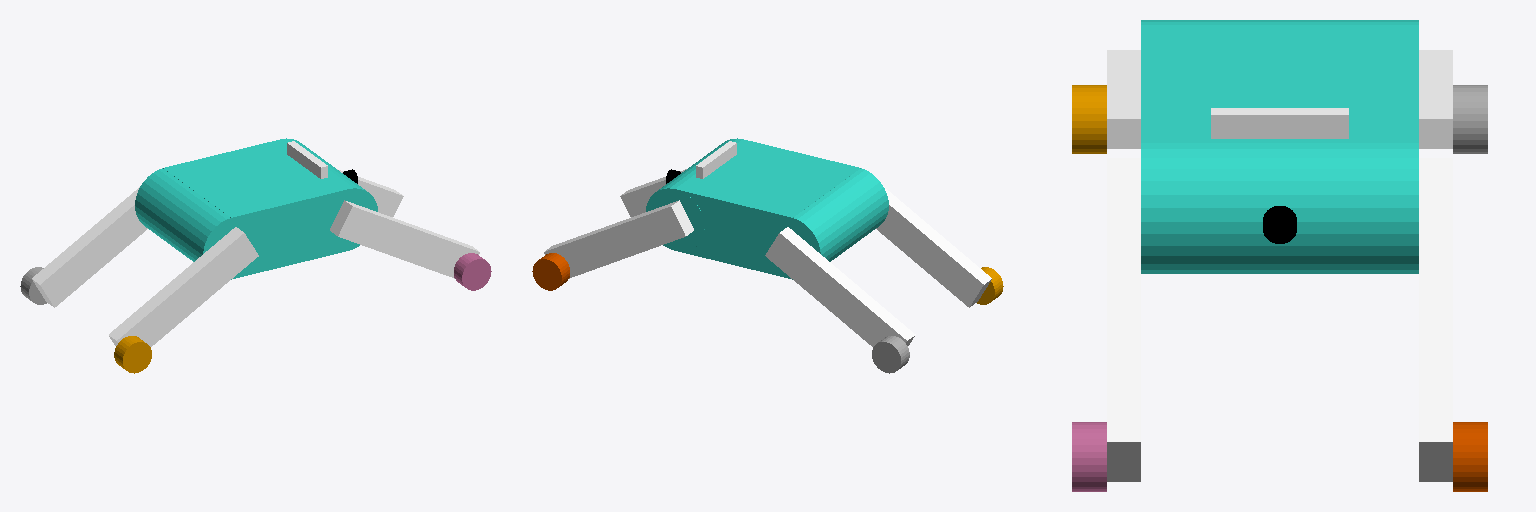
robot.urdf — hitomi:
<?xml version="1.0" ?>
<!-- =================================================================================== -->
<!-- |    This document was autogenerated by xacro from combined.urdf.xacro            | -->
<!-- |    EDITING THIS FILE BY HAND IS NOT RECOMMENDED                                 | -->
<!-- =================================================================================== -->
<robot name="hitomi">
  <gazebo>
    <plugin filename="libgz-sim-sensors-system.so" name="gz::sim::systems::Sensors">
      <render_engine>ogre2</render_engine>
    </plugin>
  </gazebo>
  <gazebo>
    <plugin filename="gz-sim-diff-drive-system" name="gz::sim::systems::DiffDrive">
      <left_joint>wheel_fl_joint</left_joint>
      <left_joint>wheel_rl_joint</left_joint>
      <right_joint>wheel_fr_joint</right_joint>
      <right_joint>wheel_rr_joint</right_joint>
      <wheel_separation>0.220334</wheel_separation>
      <wheel_radius>0.02</wheel_radius>
      <max_linear_acceleration>10</max_linear_acceleration>
      <odom_publish_frequency>100</odom_publish_frequency>
      <topic>cmd_vel</topic>
      <odom_topic>odom</odom_topic>
    </plugin>
  </gazebo>
  <gazebo reference="wheel_fl">
    <mu1>1.0</mu1>
    <mu2>1.0</mu2>
  </gazebo>
  <gazebo reference="wheel_fr">
    <mu1>1.0</mu1>
    <mu2>1.0</mu2>
  </gazebo>
  <gazebo reference="wheel_rl">
    <mu1>1.0</mu1>
    <mu2>1.0</mu2>
  </gazebo>
  <gazebo reference="wheel_rr">
    <mu1>1.0</mu1>
    <mu2>1.0</mu2>
  </gazebo>
  <link name="chassis_link">
    <visual>
      <origin rpy="0 0 0" xyz="0 0 0.07"/>
      <geometry>
        <mesh filename="package://hitomi/meshes/body.dae"/>
      </geometry>
      <material name="true_turquoise">
        <color rgba="0.251 0.878 0.816 1.0"/>
      </material>
    </visual>
    <collision>
      <origin rpy="0 0 0" xyz="0 0 0.07"/>
      <geometry>
        <mesh filename="package://hitomi/meshes/body.stl"/>
      </geometry>
    </collision>
    <inertial>
      <mass value="3.0"/>
      <inertia ixx="0.9" ixy="0.0" ixz="0.0" iyy="0.9" iyz="0.0" izz="0.01"/>
    </inertial>
  </link>
  <link name="leg_fl">
    <visual>
      <origin rpy="0 0.523 0" xyz="0 0 0"/>
      <geometry>
        <mesh filename="package://hitomi/meshes/leg.dae"/>
      </geometry>
      <material name="white">
        <color rgba="1 1 1 1"/>
      </material>
    </visual>
    <collision>
      <origin rpy="0 0.523 0" xyz="0 0 0"/>
      <geometry>
        <mesh filename="package://hitomi/meshes/leg.stl"/>
      </geometry>
    </collision>
    <inertial>
      <mass value="0.5"/>
      <inertia ixx="0.005" ixy="0" ixz="0" iyy="0.005" iyz="0" izz="0.005"/>
    </inertial>
  </link>
  <joint name="leg_fl_joint" type="fixed">
    <!-- need to change the type from fixed to something so that the suspension will be simulated.-->
    <parent link="chassis_link"/>
    <child link="leg_fl"/>
    <origin rpy="0 0 0" xyz="0.15 0.09 0.03"/>
  </joint>
  <link name="leg_fr">
    <visual>
      <origin rpy="0 0.523 0" xyz="0 0 0"/>
      <geometry>
        <mesh filename="package://hitomi/meshes/leg.dae"/>
      </geometry>
      <material name="white">
        <color rgba="1 1 1 1"/>
      </material>
    </visual>
    <collision>
      <origin rpy="0 0.523 0" xyz="0 0 0"/>
      <geometry>
        <mesh filename="package://hitomi/meshes/leg.stl"/>
      </geometry>
    </collision>
    <inertial>
      <mass value="0.5"/>
      <inertia ixx="0.005" ixy="0" ixz="0" iyy="0.005" iyz="0" izz="0.005"/>
    </inertial>
  </link>
  <joint name="leg_fr_joint" type="fixed">
    <!-- need to change the type from fixed to something so that the suspension will be simulated.-->
    <parent link="chassis_link"/>
    <child link="leg_fr"/>
    <origin rpy="0 0 0" xyz="0.15 -0.09 0.03"/>
  </joint>
  <link name="leg_rl">
    <visual>
      <origin rpy="0 -0.523 0" xyz="0 0 0"/>
      <geometry>
        <mesh filename="package://hitomi/meshes/leg.dae"/>
      </geometry>
      <material name="white">
        <color rgba="1 1 1 1"/>
      </material>
    </visual>
    <collision>
      <origin rpy="0 -0.523 0" xyz="0 0 0"/>
      <geometry>
        <mesh filename="package://hitomi/meshes/leg.stl"/>
      </geometry>
    </collision>
    <inertial>
      <mass value="0.5"/>
      <inertia ixx="0.005" ixy="0" ixz="0" iyy="0.005" iyz="0" izz="0.005"/>
    </inertial>
  </link>
  <joint name="leg_rl_joint" type="fixed">
    <!-- need to change the type from fixed to something so that the suspension will be simulated.-->
    <parent link="chassis_link"/>
    <child link="leg_rl"/>
    <origin rpy="0 0 0" xyz="-0.15 0.09 0.03"/>
  </joint>
  <link name="leg_rr">
    <visual>
      <origin rpy="0 -0.523 0" xyz="0 0 0"/>
      <geometry>
        <mesh filename="package://hitomi/meshes/leg.dae"/>
      </geometry>
      <material name="white">
        <color rgba="1 1 1 1"/>
      </material>
    </visual>
    <collision>
      <origin rpy="0 -0.523 0" xyz="0 0 0"/>
      <geometry>
        <mesh filename="package://hitomi/meshes/leg.stl"/>
      </geometry>
    </collision>
    <inertial>
      <mass value="0.5"/>
      <inertia ixx="0.005" ixy="0" ixz="0" iyy="0.005" iyz="0" izz="0.005"/>
    </inertial>
  </link>
  <joint name="leg_rr_joint" type="fixed">
    <!-- need to change the type from fixed to something so that the suspension will be simulated.-->
    <parent link="chassis_link"/>
    <child link="leg_rr"/>
    <origin rpy="0 0 0" xyz="-0.15 -0.09 0.03"/>
  </joint>
  <link name="wheel_fl">
    <visual>
      <origin rpy="1.570795 0 0" xyz="0 0 0"/>
      <geometry>
        <cylinder length="0.02" radius="0.02"/>
      </geometry>
    </visual>
    <collision>
      <origin rpy="1.570795 0 0" xyz="0 0 0"/>
      <geometry>
        <cylinder length="0.02" radius="0.02"/>
      </geometry>
    </collision>
    <inertial>
      <mass value="0.5"/>
      <inertia ixx="0.005" ixy="0" ixz="0" iyy="0.005" iyz="0" izz="0.005"/>
    </inertial>
  </link>
  <joint name="wheel_fl_joint" type="continuous">
    <parent link="leg_fl"/>
    <child link="wheel_fl"/>
    <origin xyz="0.08 0.02 -0.05"/>
    <axis xyz="0 1 0 "/>
  </joint>
  <link name="wheel_fr">
    <visual>
      <origin rpy="1.570795 0 0" xyz="0 0 0"/>
      <geometry>
        <cylinder length="0.02" radius="0.02"/>
      </geometry>
    </visual>
    <collision>
      <origin rpy="1.570795 0 0" xyz="0 0 0"/>
      <geometry>
        <cylinder length="0.02" radius="0.02"/>
      </geometry>
    </collision>
    <inertial>
      <mass value="0.5"/>
      <inertia ixx="0.005" ixy="0" ixz="0" iyy="0.005" iyz="0" izz="0.005"/>
    </inertial>
  </link>
  <joint name="wheel_fr_joint" type="continuous">
    <parent link="leg_fr"/>
    <child link="wheel_fr"/>
    <origin xyz="0.08 -0.02 -0.05"/>
    <axis xyz="0 1 0 "/>
  </joint>
  <link name="wheel_rl">
    <visual>
      <origin rpy="1.570795 0 0" xyz="0 0 0"/>
      <geometry>
        <cylinder length="0.02" radius="0.02"/>
      </geometry>
    </visual>
    <collision>
      <origin rpy="1.570795 0 0" xyz="0 0 0"/>
      <geometry>
        <cylinder length="0.02" radius="0.02"/>
      </geometry>
    </collision>
    <inertial>
      <mass value="0.5"/>
      <inertia ixx="0.005" ixy="0" ixz="0" iyy="0.005" iyz="0" izz="0.005"/>
    </inertial>
  </link>
  <joint name="wheel_rl_joint" type="continuous">
    <parent link="leg_rl"/>
    <child link="wheel_rl"/>
    <origin xyz="-0.08 0.02 -0.05"/>
    <axis xyz="0 1 0 "/>
  </joint>
  <link name="wheel_rr">
    <visual>
      <origin rpy="1.570795 0 0" xyz="0 0 0"/>
      <geometry>
        <cylinder length="0.02" radius="0.02"/>
      </geometry>
    </visual>
    <collision>
      <origin rpy="1.570795 0 0" xyz="0 0 0"/>
      <geometry>
        <cylinder length="0.02" radius="0.02"/>
      </geometry>
    </collision>
    <inertial>
      <mass value="0.5"/>
      <inertia ixx="0.005" ixy="0" ixz="0" iyy="0.005" iyz="0" izz="0.005"/>
    </inertial>
  </link>
  <joint name="wheel_rr_joint" type="continuous">
    <parent link="leg_rr"/>
    <child link="wheel_rr"/>
    <origin xyz="-0.08 -0.02 -0.05"/>
    <axis xyz="0 1 0 "/>
  </joint>
  <link name="display_link">
    <visual>
      <!--origin xyz="0.07 0 0.14" rpy="0 0 0"/-->
      <origin rpy="0 0 0" xyz="0.07 0 0.11"/>
      <geometry>
        <box size="0.01 0.08 0.03"/>
      </geometry>
      <material name="white">
        <color rgba="1 1 1 1"/>
      </material>
    </visual>
    <collision>
      <!--origin xyz="0.07 0 0.19" rpy="0 0 0"/-->
      <origin rpy="0 0 0" xyz="0.07 0 0.11"/>
      <geometry>
        <box size="0.01 0.08 0.03"/>
      </geometry>
    </collision>
  </link>
  <joint name="display_joint" type="fixed">
    <parent link="chassis_link"/>
    <child link="display_link"/>
  </joint>
  <link name="camera_link">
    <visual>
      <origin rpy="0 1.570795 0" xyz="0 0 0"/>
      <geometry>
        <cylinder length="0.01" radius="0.01"/>
      </geometry>
      <material name="black">
        <color rgba="0 0 0 1"/>
      </material>
    </visual>
    <collision>
      <geometry>
        <cylinder length="0.01" radius="0.01"/>
      </geometry>
    </collision>
    <inertial>
      <mass value="0.01"/>
      <inertia ixx="0.005" ixy="0" ixz="0" iyy="0.005" iyz="0" izz="0.005"/>
      <origin rpy="0 0 0" xyz="0 0 0"/>
    </inertial>
  </link>
  <joint name="camera_joint" type="fixed">
    <parent link="chassis_link"/>
    <child link="camera_link"/>
    <origin xyz="0.128 0 0.08"/>
  </joint>
  <gazebo reference="camera_link">
    <sensor name="camera_fr" type="camera">
      <pose>-0.005 0 0 0 0 0</pose>
      <always_on>true</always_on>
      <update_rate>30</update_rate>
      <visualize>true</visualize>
      <topic>camera/image_raw</topic>
      <camera>
        <camera_info_topic>/camera_info</camera_info_topic>
        <horizontal_fov>1.5</horizontal_fov>
        <image>
          <width>640</width>
          <height>480</height>
        </image>
        <clip>
          <near>0.01</near>
          <far>300</far>
        </clip>
      </camera>
    </sensor>
  </gazebo>
</robot>

--- What the picture shows (computed from the rendered views, not written in the file) ---
Views: 3 orthographic renders of the robot side by side, from view 1: azimuth 30°, elevation 25°; view 2: azimuth 150°, elevation 25°; view 3: azimuth 270°, elevation 25°.
Model hitomi with 11 links and 10 joints (4 continuous, 6 fixed), rooted at chassis_link, posed all joints at 0.
Links seen in each view (by area): view 1: chassis_link, leg_rr, leg_fr, leg_rl, wheel_rr, wheel_fr, leg_fl, display_link, wheel_rl; view 2: chassis_link, leg_rl, leg_fl, leg_rr, wheel_rl, wheel_fl, leg_fr, display_link, wheel_rr; view 3: chassis_link, leg_fl, leg_fr, display_link, leg_rl, leg_rr, wheel_fl, wheel_fr, wheel_rl, wheel_rr, camera_link.
Boxes of the visible links, x1=… form: chassis_link: x1=135, y1=138, x2=377, y2=279; leg_rr: x1=109, y1=227, x2=258, y2=346; leg_fr: x1=330, y1=200, x2=479, y2=278; leg_rl: x1=32, y1=187, x2=147, y2=307; wheel_rr: x1=114, y1=336, x2=151, y2=373; wheel_fr: x1=454, y1=253, x2=491, y2=290; leg_fl: x1=337, y1=169, x2=403, y2=216; display_link: x1=287, y1=141, x2=327, y2=178; wheel_rl: x1=20, y1=267, x2=46, y2=304; chassis_link: x1=646, y1=138, x2=888, y2=279; leg_rl: x1=765, y1=227, x2=915, y2=346; leg_fl: x1=544, y1=200, x2=693, y2=278; leg_rr: x1=876, y1=186, x2=991, y2=307; wheel_rl: x1=872, y1=336, x2=909, y2=373; wheel_fl: x1=532, y1=253, x2=569, y2=290; leg_fr: x1=620, y1=169, x2=686, y2=216; display_link: x1=696, y1=141, x2=736, y2=178; wheel_rr: x1=977, y1=267, x2=1003, y2=304; chassis_link: x1=1141, y1=20, x2=1418, y2=273; leg_fl: x1=1419, y1=158, x2=1452, y2=481; leg_fr: x1=1107, y1=158, x2=1140, y2=481; display_link: x1=1211, y1=108, x2=1348, y2=138; leg_rl: x1=1419, y1=50, x2=1452, y2=148; leg_rr: x1=1107, y1=50, x2=1140, y2=148; wheel_fl: x1=1453, y1=422, x2=1487, y2=491; wheel_fr: x1=1072, y1=422, x2=1106, y2=491; wheel_rl: x1=1453, y1=85, x2=1487, y2=153; wheel_rr: x1=1072, y1=85, x2=1106, y2=153; camera_link: x1=1263, y1=206, x2=1296, y2=243.
Bounding box of the posed robot: 0.5 × 0.24 × 0.165 m (x, y, z).
5 mesh visuals loaded from 2 distinct referenced files (2 Collada DAE).
